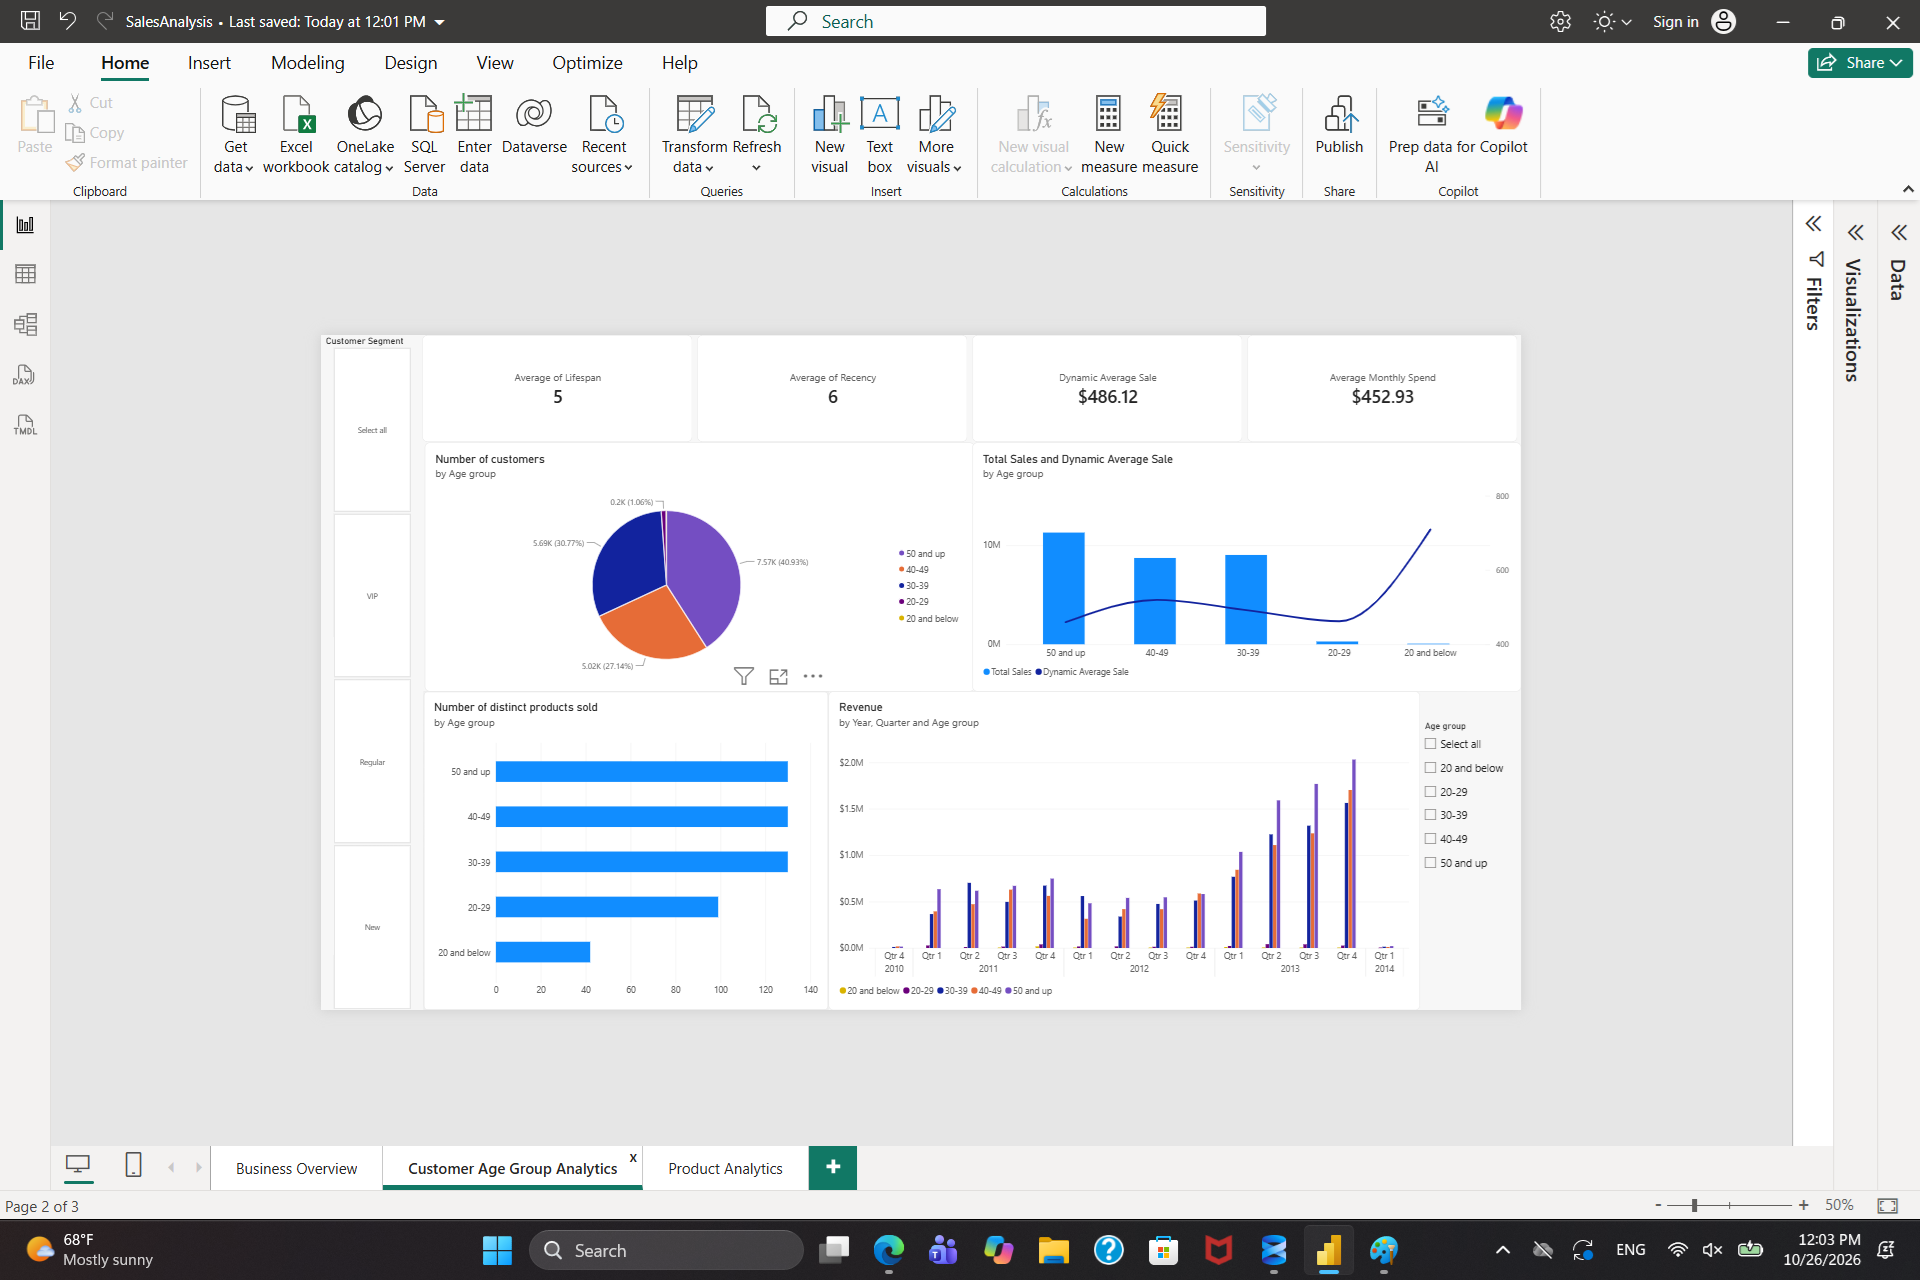

Layout of this report page (visuals, bound fields, positions):
{"tool":"powerbi","page":{"name":"Customer Age Group Analytics ","canvas":[1920,1080],"ordinal":1},"visuals":[{"type":"cardVisual","fields":{"Data":["Avg(gold dim_customers.Lifespan)","Avg(gold dim_customers.Recency)","gold fact_sales.Average Sale","Avg(gold dim_customers.Average Monthly Spend)"]},"box":[162.9,0,1754.3,171.4],"z":0},{"type":"pieChart","fields":{"Category":["gold dim_customers.Age group"],"Y":["CountNonNull(gold dim_customers.customer_key)"]},"box":[165,172.5,880,398],"z":1000},{"type":"lineClusteredColumnComboChart","fields":{"Category":["gold dim_customers.Age group"],"Y":["gold fact_sales.Dynamic Total Sales"],"Y2":["gold fact_sales.Average Sale"]},"box":[1042.5,172.5,878,398],"z":2000},{"type":"clusteredBarChart","fields":{"Category":["gold dim_customers.Age group"],"Y":["Count(gold fact_sales.product_key)"]},"box":[164,570,648,510],"z":3000},{"type":"clusteredColumnChart","fields":{"Category":["gold fact_sales.order_date.Variation.Date Hierarchy.Year","gold fact_sales.order_date.Variation.Date Hierarchy.Quarter"],"Series":["gold dim_customers.Age group"],"Y":["Sum(gold fact_sales.sales_amount)"]},"box":[812.5,570,946,510],"z":4000},{"type":"slicer","fields":{"Values":["gold dim_customers.Customer Segment"]},"box":[0,0,162,1080],"z":5000},{"type":"slicer","fields":{"Values":["gold dim_customers.Age group"]},"box":[1758,616,161.7,251.7],"z":6000}]}

Visuals, with their boxes on the page's 1920x1080 design canvas (x1, y1, x2, y2). These are canvas units, not pixel positions in the 1920x1280 screenshot, which may show the page scaled, cropped or inside an application window:
cardVisual - Avg(gold dim_customers.Lifespan) x Avg(gold dim_customers.Recency): 163 0 1917 171
pieChart - gold dim_customers.Age group x CountNonNull(gold dim_customers.customer_key): 165 172 1045 570
lineClusteredColumnComboChart - gold dim_customers.Age group x gold fact_sales.Dynamic Total Sales: 1042 172 1920 570
clusteredBarChart - gold dim_customers.Age group x Count(gold fact_sales.product_key): 164 570 812 1080
clusteredColumnChart - gold fact_sales.order_date.Variation.Date Hierarchy.Year x gold fact_sales.order_date.Variation.Date Hierarchy.Quarter: 812 570 1758 1080
slicer - gold dim_customers.Customer Segment: 0 0 162 1080
slicer - gold dim_customers.Age group: 1758 616 1920 868
